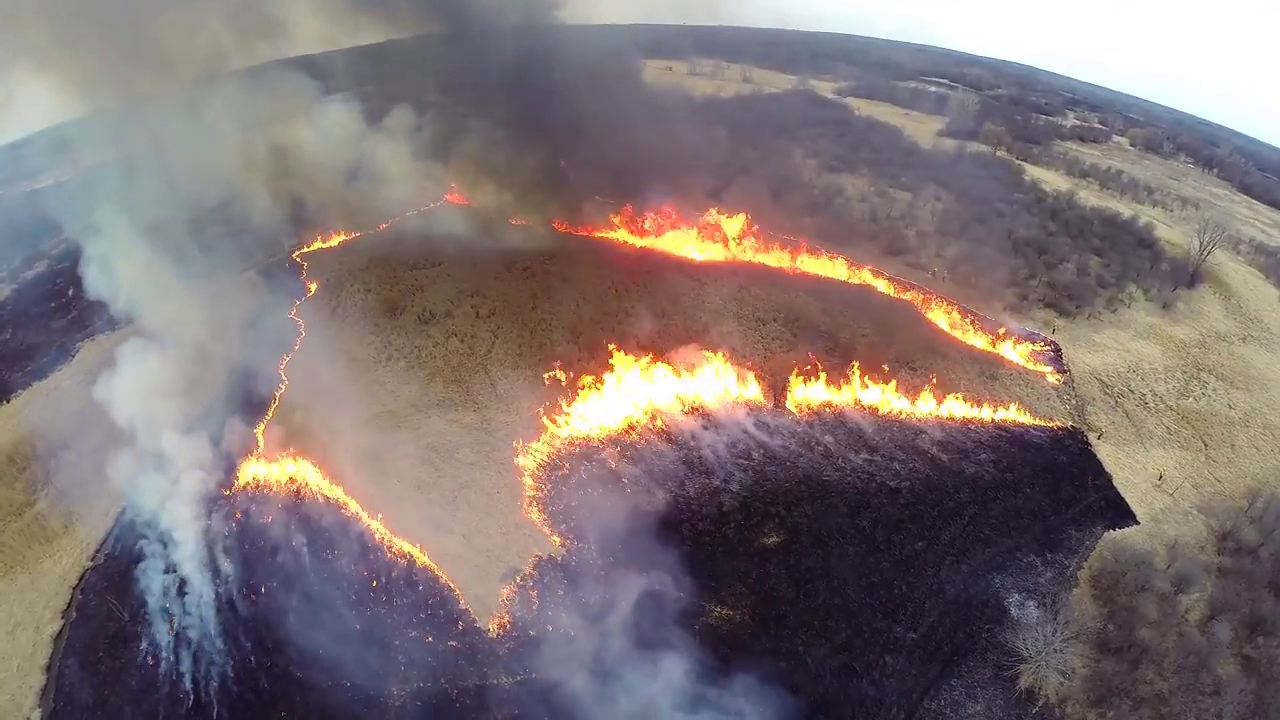forest_fire: (516, 346, 1056, 544), (553, 208, 1059, 381), (226, 232, 443, 577), (408, 187, 469, 212), (375, 218, 399, 230), (449, 583, 455, 591), (560, 373, 566, 381)
